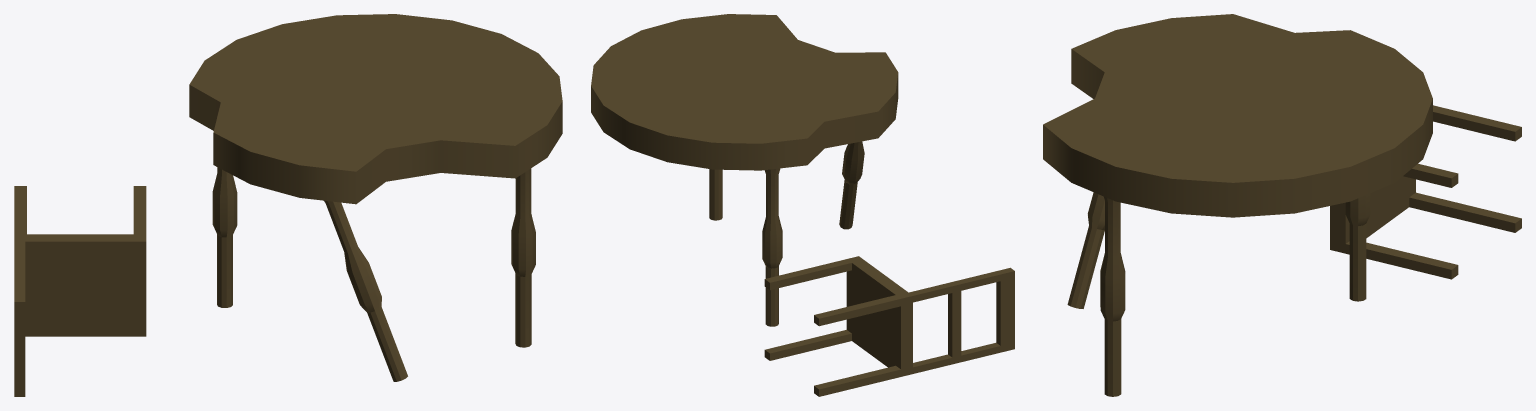
The model's file is Table.D.fbx.
The picture shows the model from 3 angles, left to right: view 1: azimuth 30°, elevation 25°; view 2: azimuth 150°, elevation 25°; view 3: azimuth 270°, elevation 25°; orthographic projection. The views are drawn at different scales.
Parts seen in each view (by area): view 1: pCube26; view 2: pCube26; view 3: pCube26.
Boxes of the visible parts, x1,y1,x2,y2 form: pCube26: [14, 14, 562, 396]; pCube26: [591, 14, 1014, 396]; pCube26: [1043, 14, 1521, 396].
Bounding box in the file's own units: 230 × 101 × 176.
